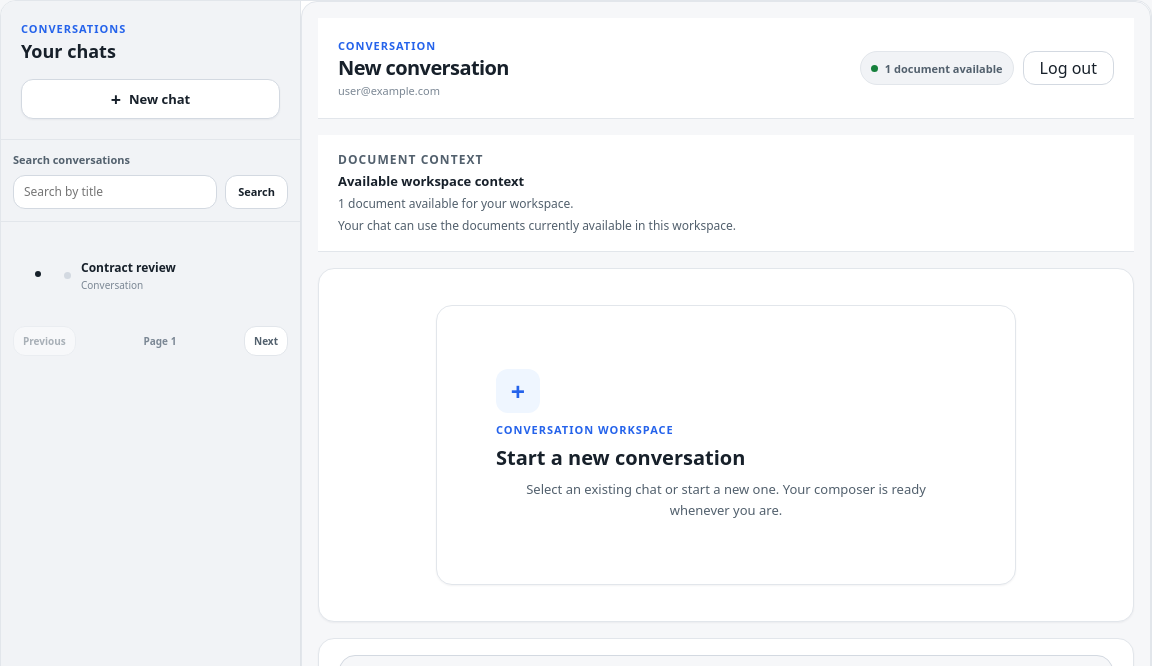
ChatPage › renders the active conversation title and document context in the workspace
Click the button "Contract review Conversation" at coordinates (170, 276), box [53, 250, 288, 302]
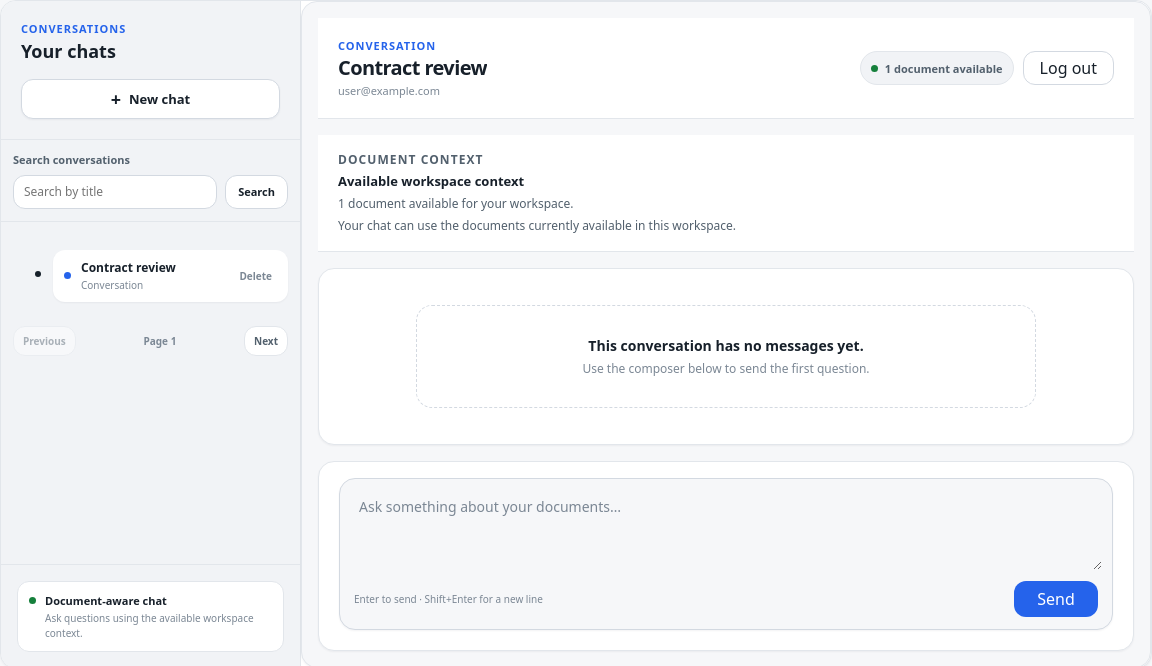
Expected: the text "1 document available" is shown, [885, 61, 1003, 76]
Result: the heading "Contract review" is shown at [338, 57, 487, 79]
